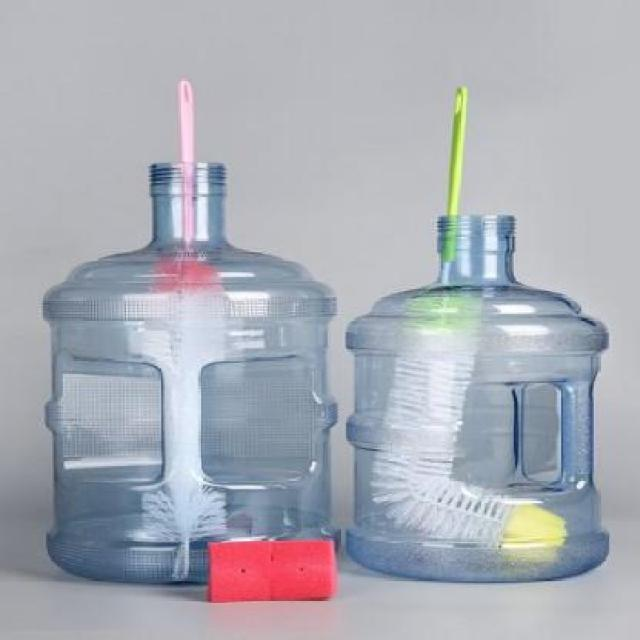coolerbottle: (35, 155, 348, 591), (342, 206, 620, 589)
